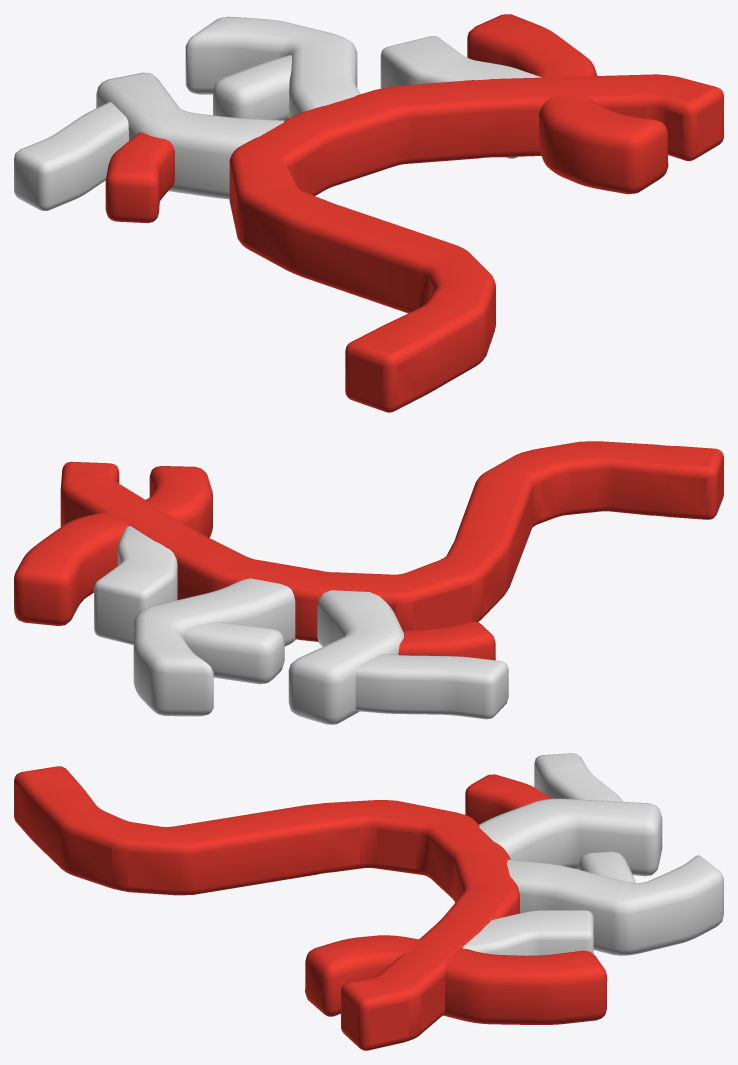
The model's file is dragon2.fbx.
3 views of the same model, one above another, from view 1: azimuth 30°, elevation 25°; view 2: azimuth 150°, elevation 25°; view 3: azimuth 270°, elevation 25° (orthographic). The views are drawn at different scales.
Visible parts, largest first — view 1: Cube.001, Cube, Cube.004, Cube.003, Cube.007, Cube.008, Cube.002, Cube.005; view 2: Cube.001, Cube.004, Cube, Cube.003, Cube.007, Cube.002, Cube.005, Cube.008; view 3: Cube.001, Cube, Cube.004, Cube.003, Cube.002, Cube.007, Cube.008, Cube.005.
Part boxes in pixels (x1,y1,x2,y2): Cube.001: (229,74,723,412); Cube: (467,14,668,194); Cube.004: (185,16,360,118); Cube.003: (96,72,284,199); Cube.007: (14,102,128,210); Cube.008: (105,132,174,223); Cube.002: (380,36,541,158); Cube.005: (213,55,291,120); Cube.001: (60,441,723,641); Cube.004: (133,578,296,716); Cube: (14,466,212,625); Cube.003: (288,590,403,724); Cube.007: (355,654,508,719); Cube.002: (94,526,177,644); Cube.005: (184,621,284,684); Cube.008: (398,621,495,660); Cube.001: (14,766,519,1050); Cube: (305,935,607,1024); Cube.004: (507,855,723,955); Cube.003: (479,798,662,876); Cube.002: (463,910,593,955); Cube.007: (534,753,623,801); Cube.008: (465,774,551,824); Cube.005: (578,851,635,882).
Size of the model in its own units: 643 by 66.89 by 747.
